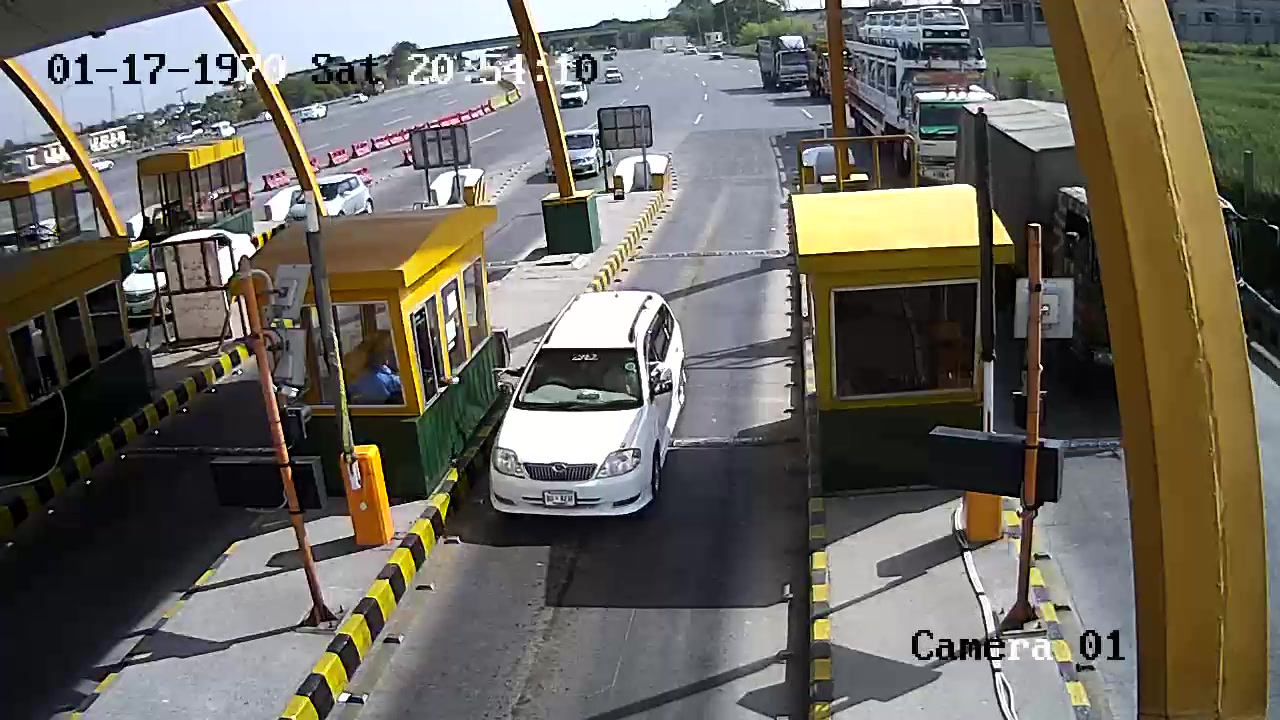F1: (480, 286, 702, 533)
